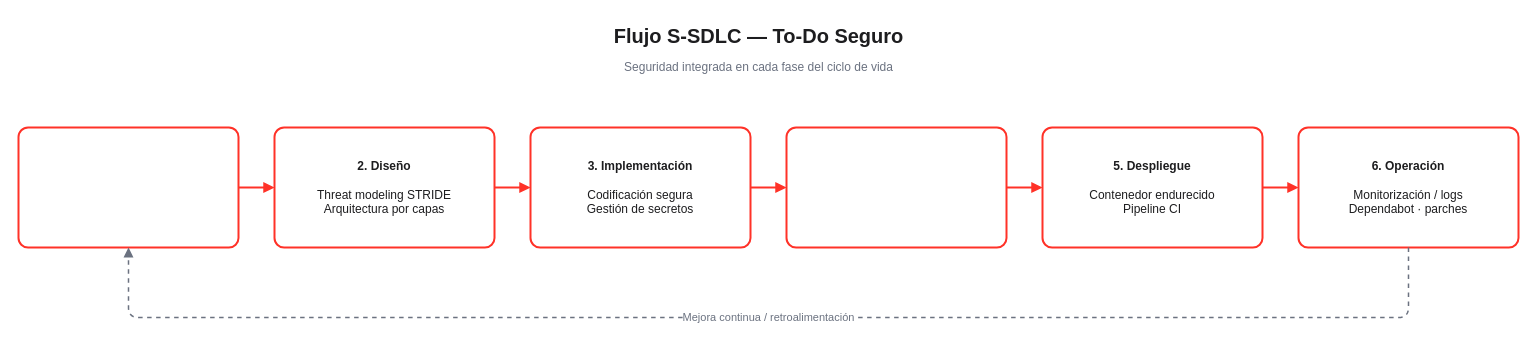
Some shapes in this 1536 by 343 pixel diagram are drawn without their labels. The shapes that lost their labels are listed below. From the top down, each one's centre as x and y in pixels, then its label:
point 128,187: 1. Requisitos Requisitos de seguridad (OWASP ASVS · SSDF PO.1)
point 896,187: 4. Pruebas Tests unitarios + seguridad SCA (npm audit)
